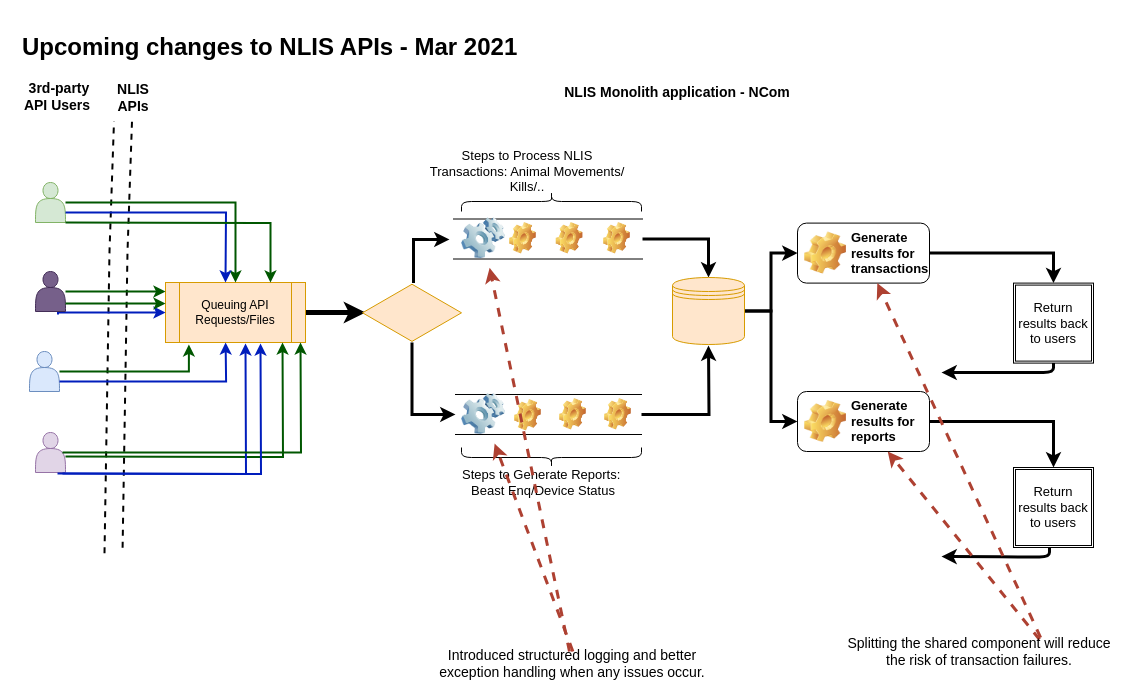
This 1130x697 diagram has some shape labels left out. Each missing label, with the centre of its shape:
Database: (x=708, y=310)
Request Types: (x=412, y=312)
